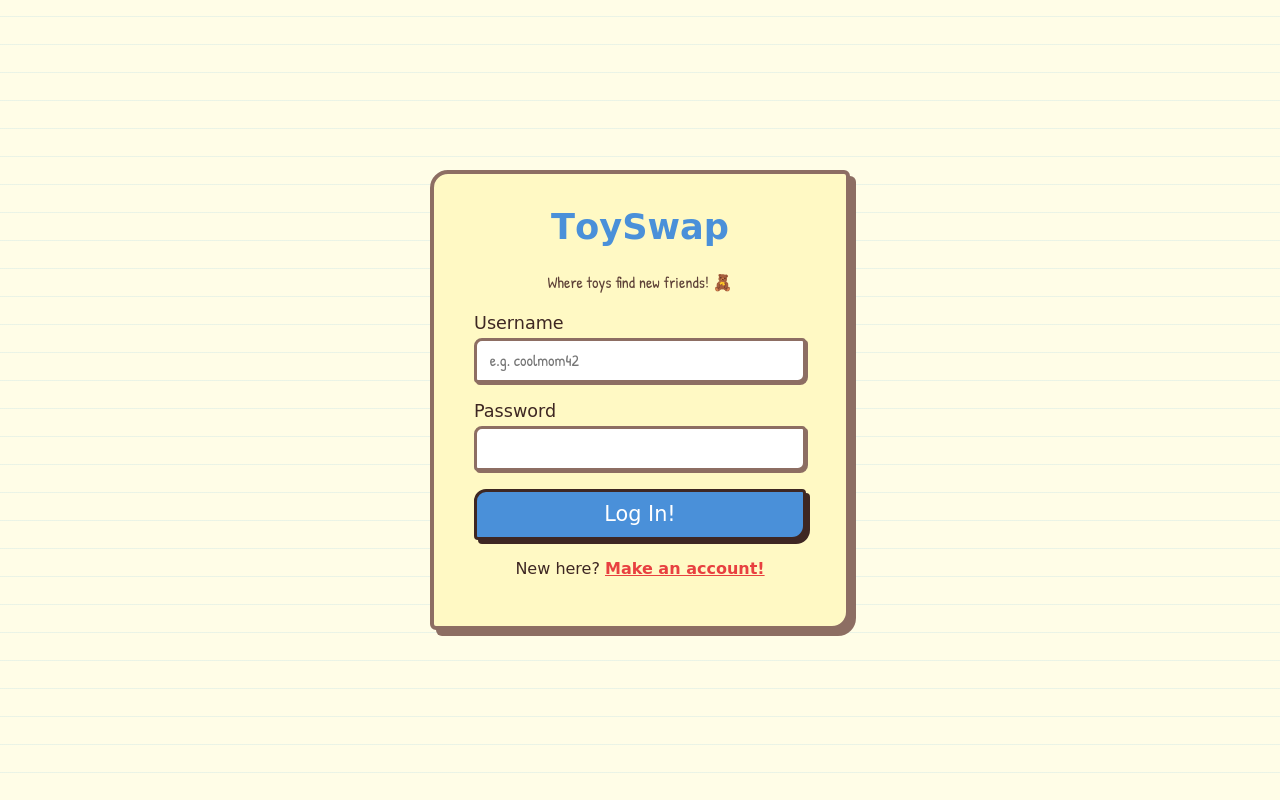
LoginPage › on 401 response shows error message
Step 1. Type "asmith" into the field labelled "Username" → {"x": 640, "y": 360}, box top-left (474, 338), bottom-right (806, 383)
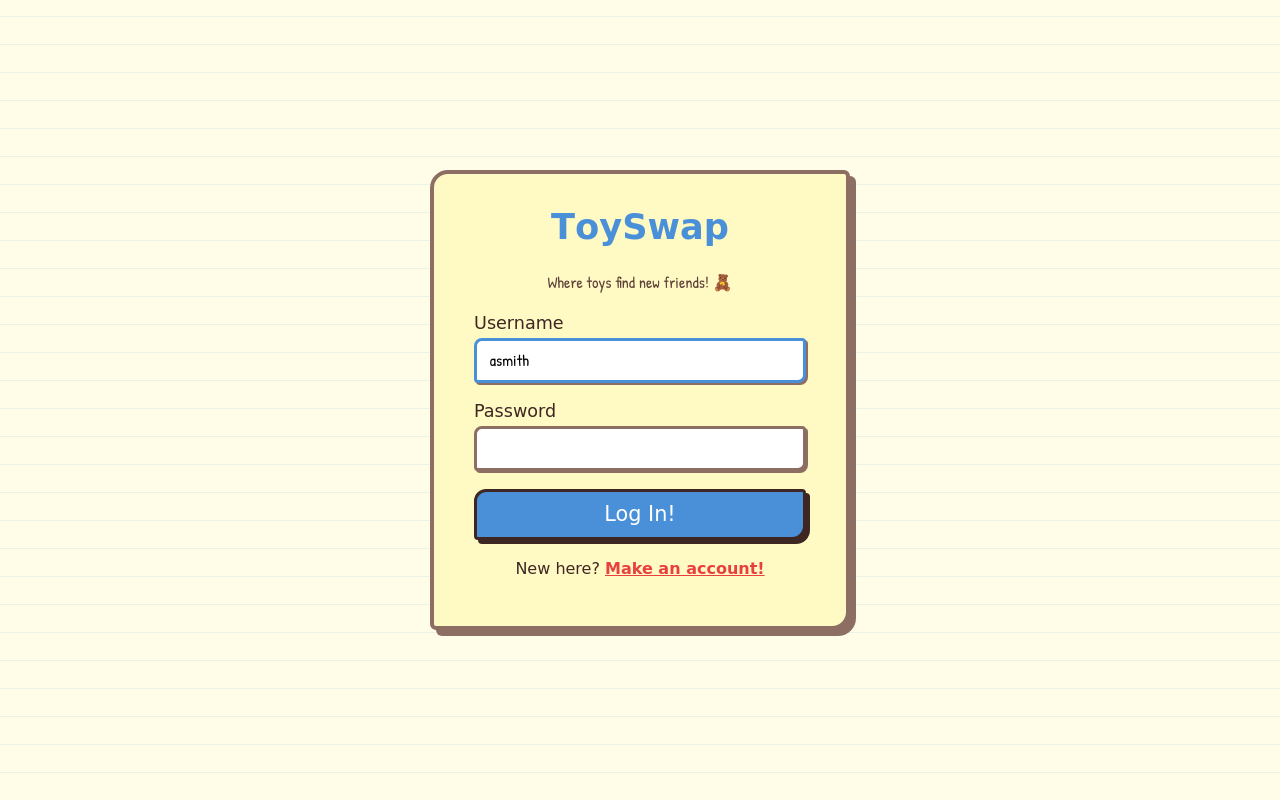
Step 2. Type "wrong" into the password field labelled "Password" → {"x": 640, "y": 448}, box top-left (474, 426), bottom-right (806, 471)
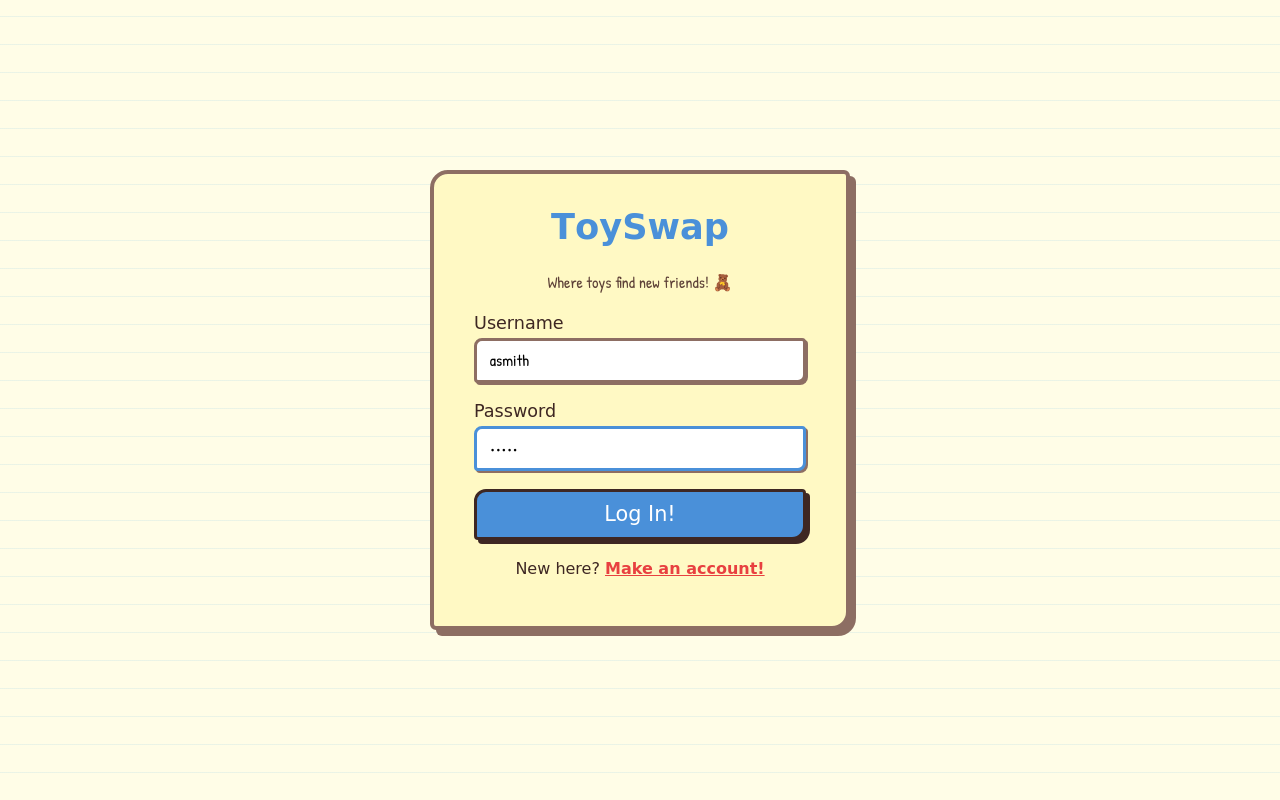
Step 3. Click the button "Log In!" → {"x": 640, "y": 514}, box top-left (474, 489), bottom-right (806, 540)
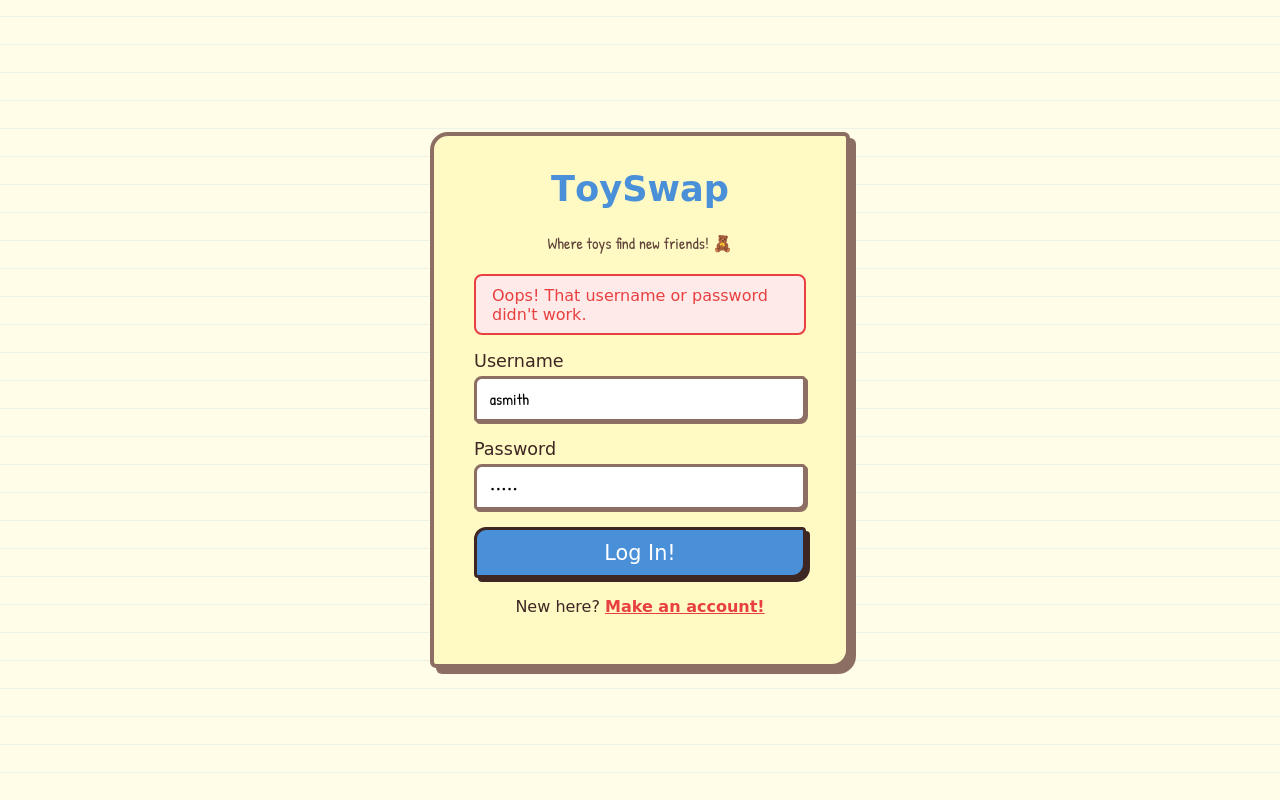
Now the text "Oops! That username or password didn't work." is shown, box top-left (474, 274), bottom-right (806, 335)
